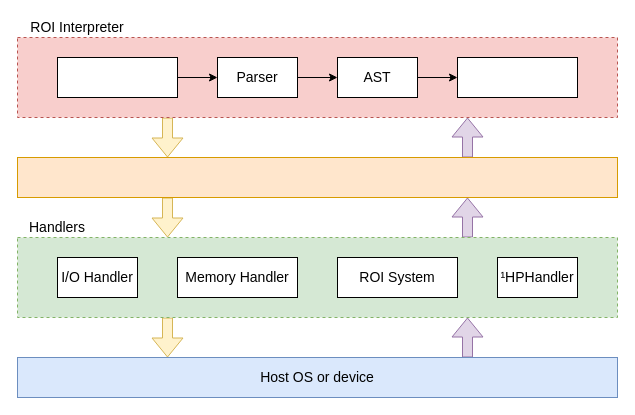
This 635x415 diagram has some shape labels left out. The shapes that lost their labels are listed below. From the top down, each one's box as (x1, y1, x2, y2) in pixels, then its label:
(56, 56, 178, 98): Expression
(456, 56, 578, 98): AST Bytecode
(16, 156, 618, 198): µUNI Runtime Environment
